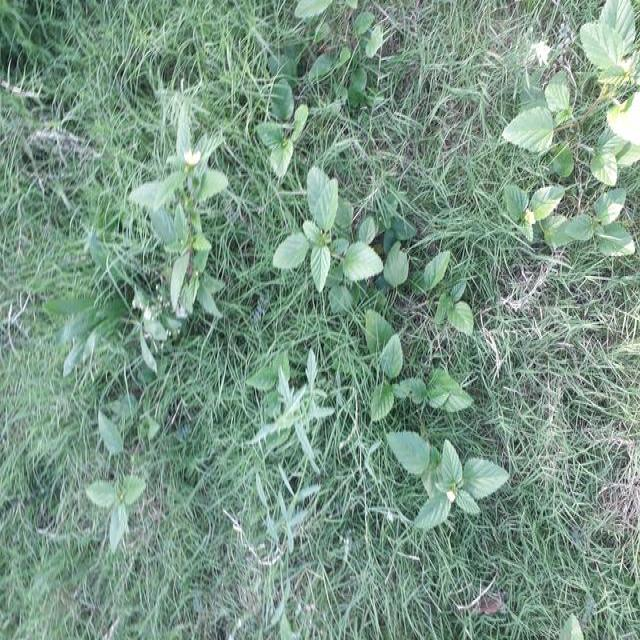weed: (502, 9, 640, 260), (138, 99, 222, 323), (389, 435, 518, 520), (290, 174, 376, 295), (362, 317, 442, 427), (254, 381, 328, 466), (261, 107, 308, 201), (252, 98, 308, 174)
